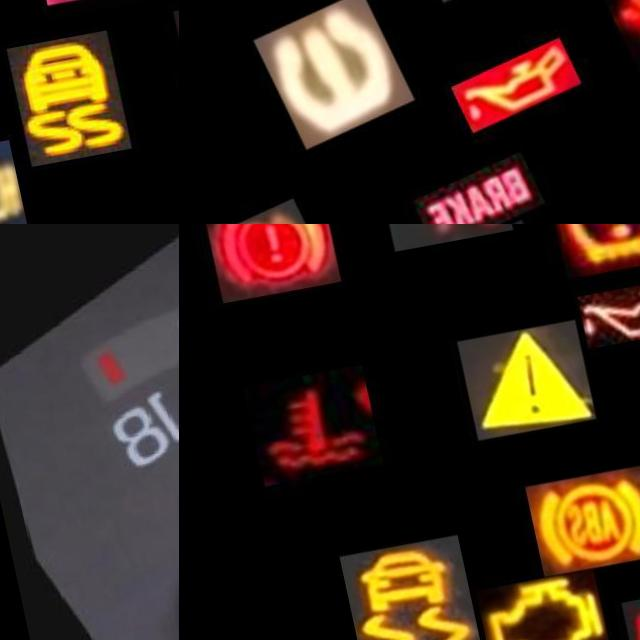Central Warning lamp: (448, 333, 582, 450)
Engine cooling system: (234, 371, 369, 487)
